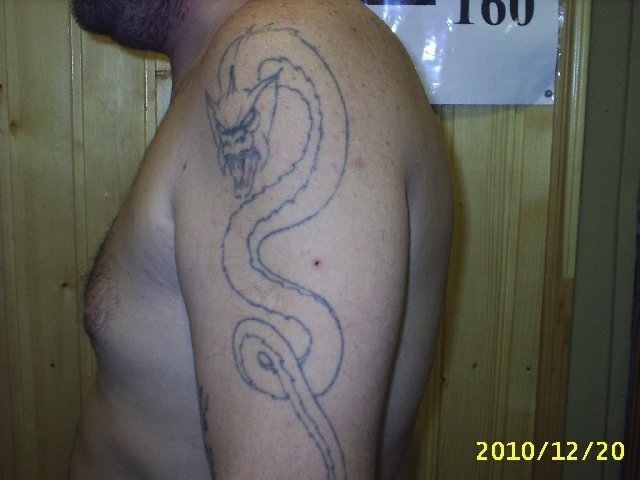tatu6_drakon: (205, 37, 380, 463)
